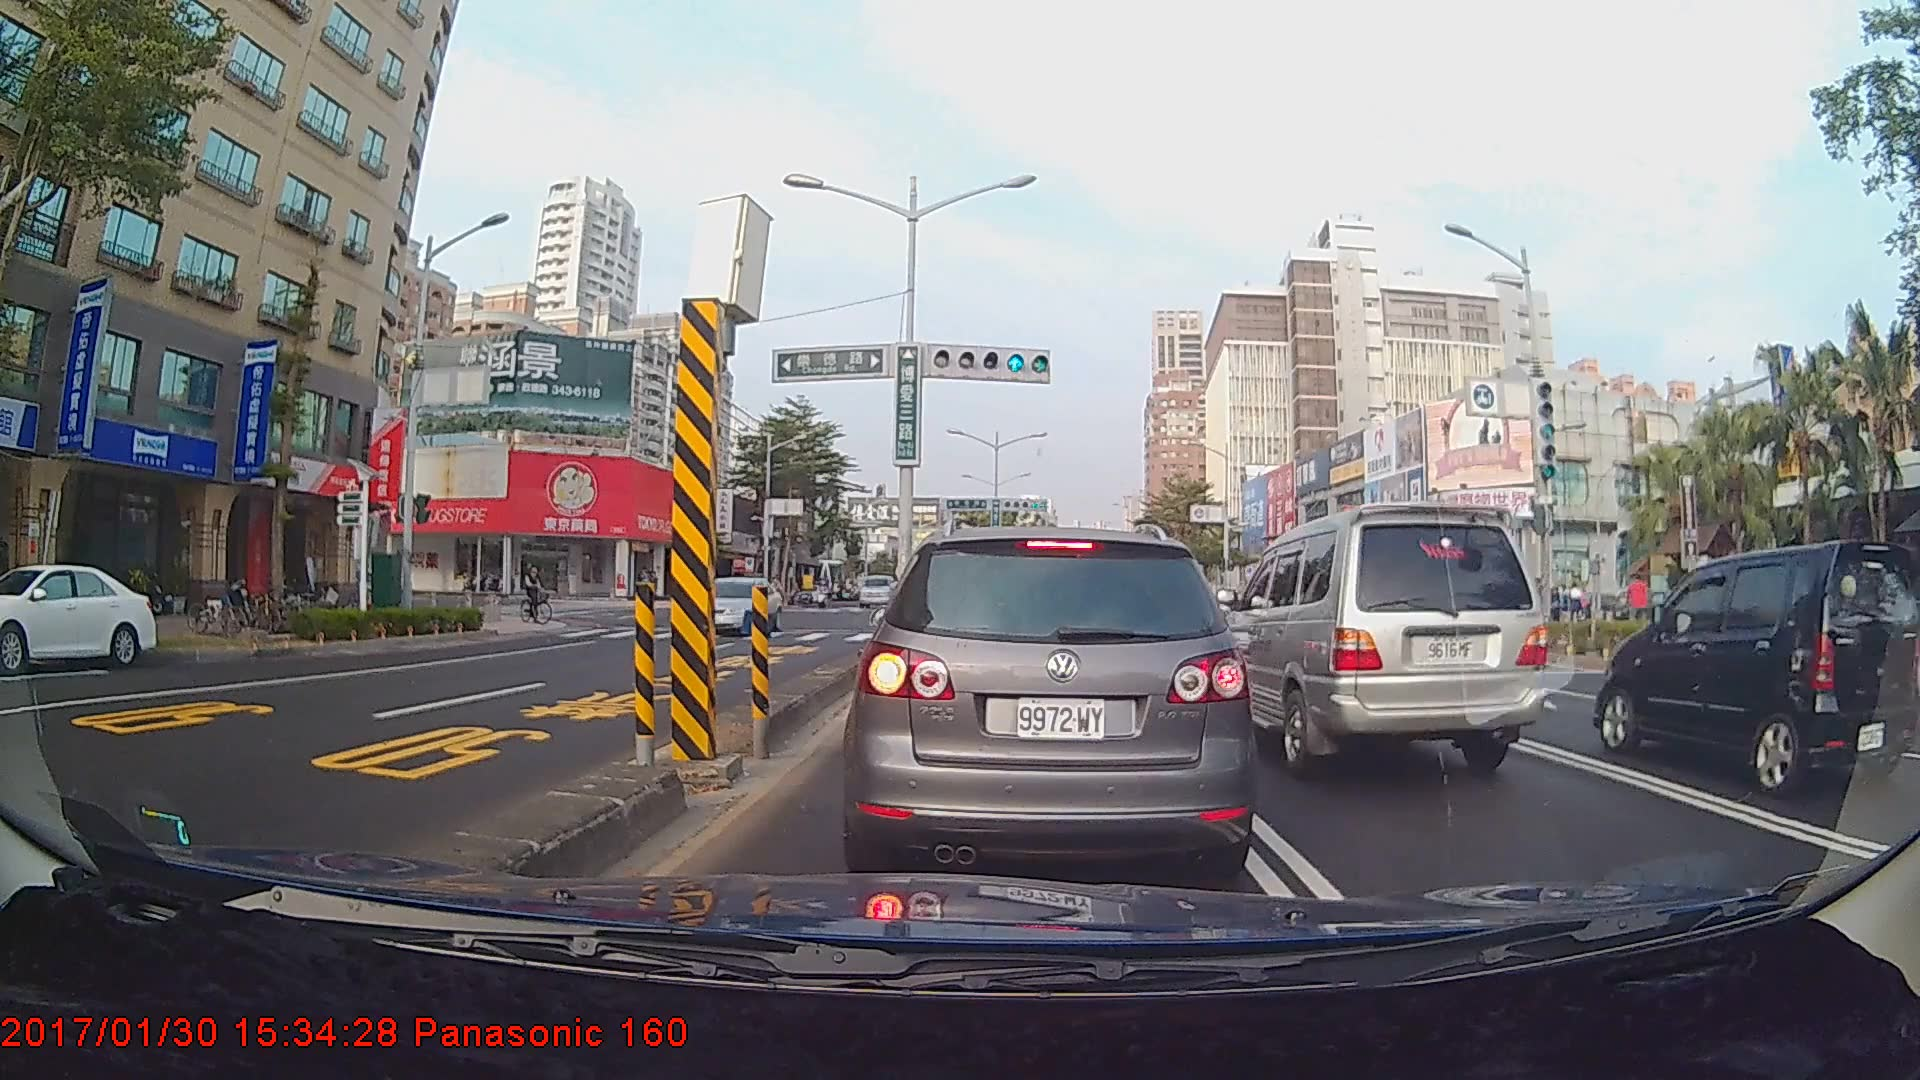rider: (518, 559, 561, 629), (1621, 568, 1662, 633)
vehicle: (852, 522, 1245, 877), (1199, 500, 1551, 777), (1594, 537, 1920, 796), (0, 561, 157, 671), (686, 574, 780, 636), (856, 572, 898, 607)
